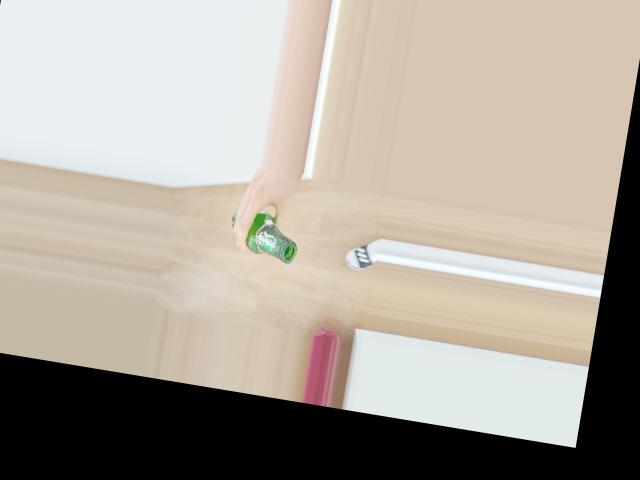beer: (227, 206, 302, 265)
